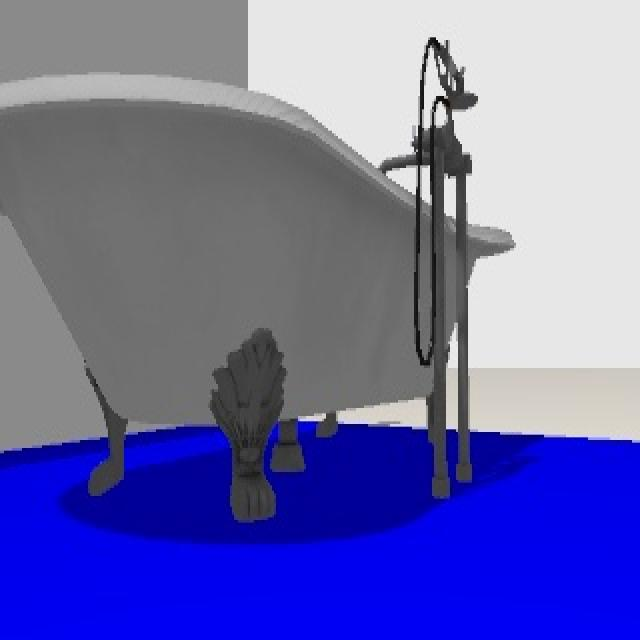bathtub: (0, 21, 518, 523)
